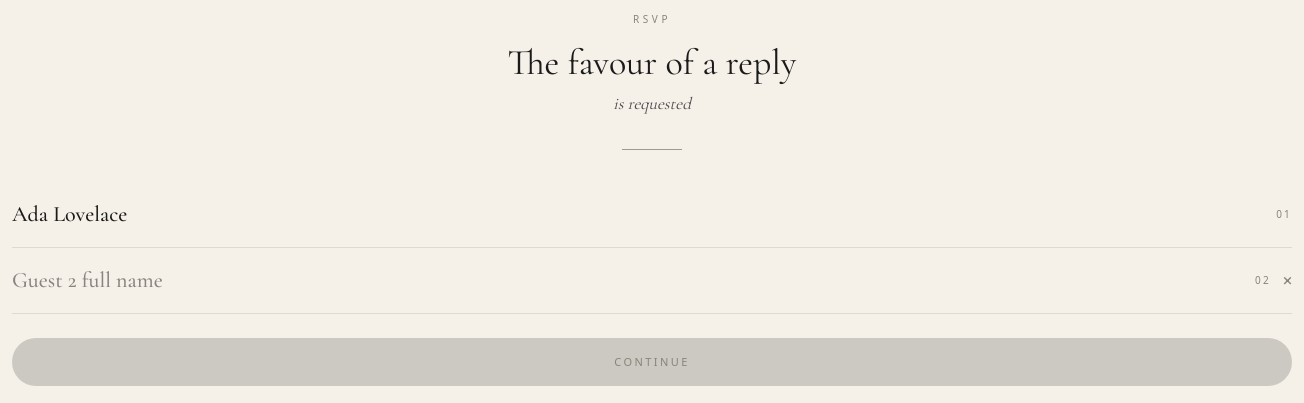
<RsvpForm /> — names step › Continue is disabled until every slot has a name
Check: the button "CONTINUE" is disabled, box [12,338,1292,386]
Type "Plus One" into the field labelled "Guest 2 full name".
click(628, 280); type("Plus One")  # box [12,264,1243,297]
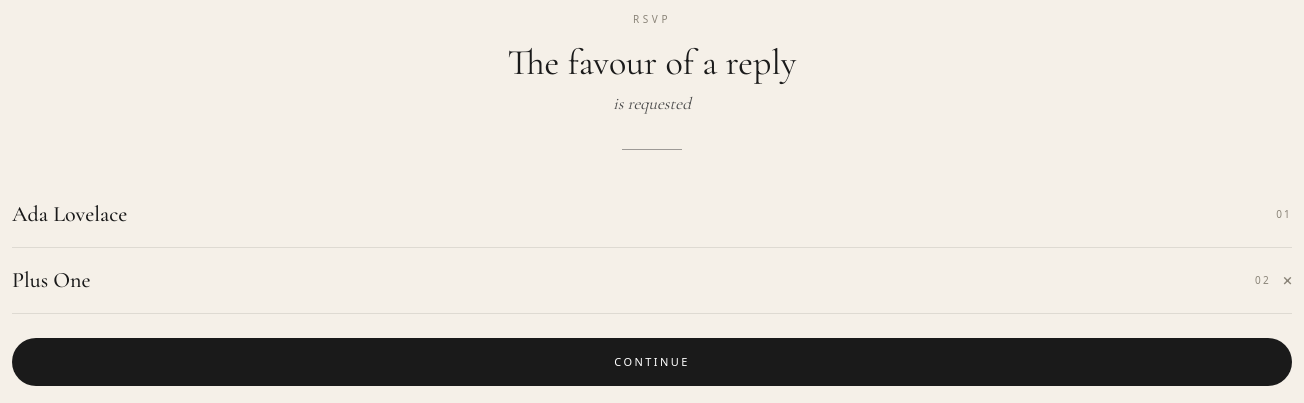
Check: the button "CONTINUE" is enabled, box [12,338,1292,386]
